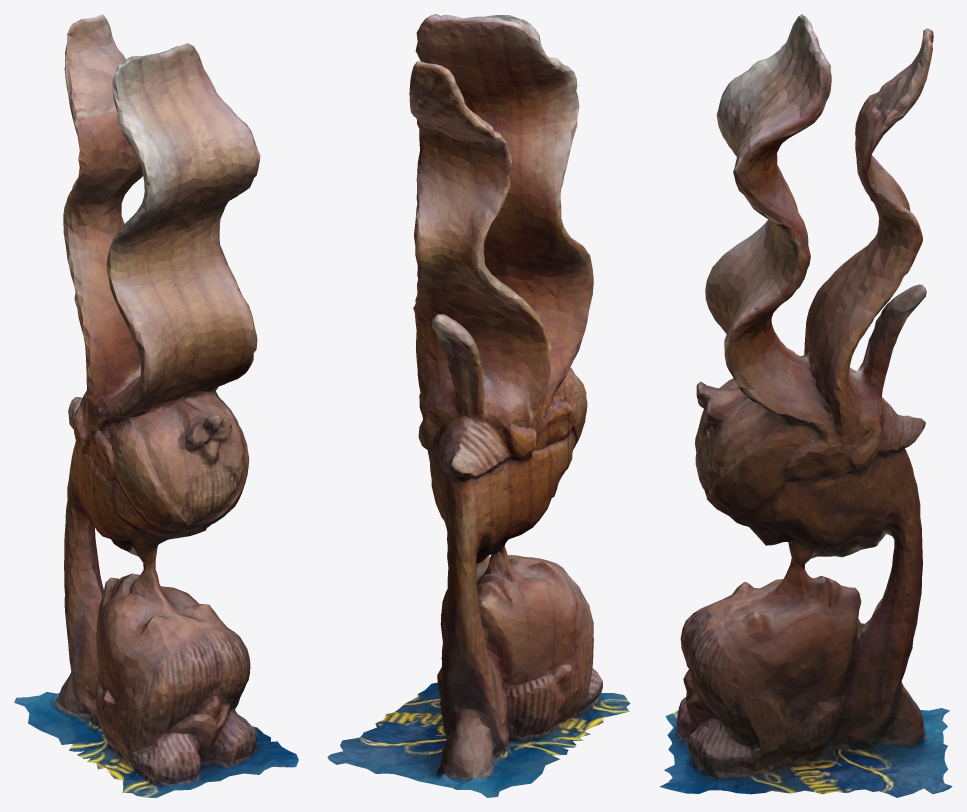
Rendered from preview.glb.
The picture shows the model from 3 angles, left to right: view 1: azimuth 30°, elevation 25°; view 2: azimuth 150°, elevation 25°; view 3: azimuth 270°, elevation 25°; orthographic projection. The views are drawn at different scales.
Size of the model in its own units: 0.0752 by 0.2775 by 0.1021.
Materials: 1 (1 with a texture image).
